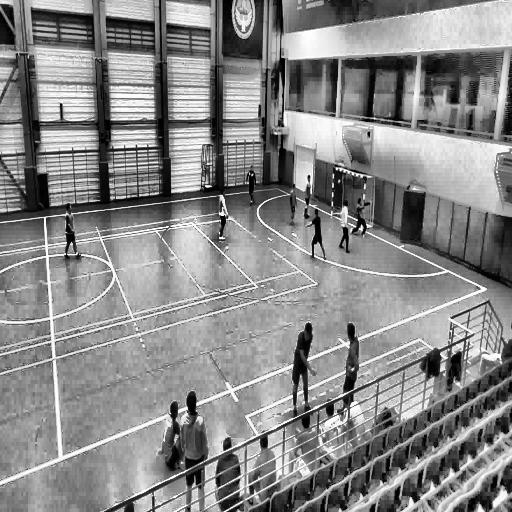player: (178, 391, 208, 512), (291, 322, 316, 420), (64, 202, 82, 260), (309, 205, 327, 261), (338, 200, 351, 253), (218, 186, 228, 242), (351, 199, 365, 237), (302, 172, 312, 222), (246, 167, 257, 208), (289, 183, 297, 225)
